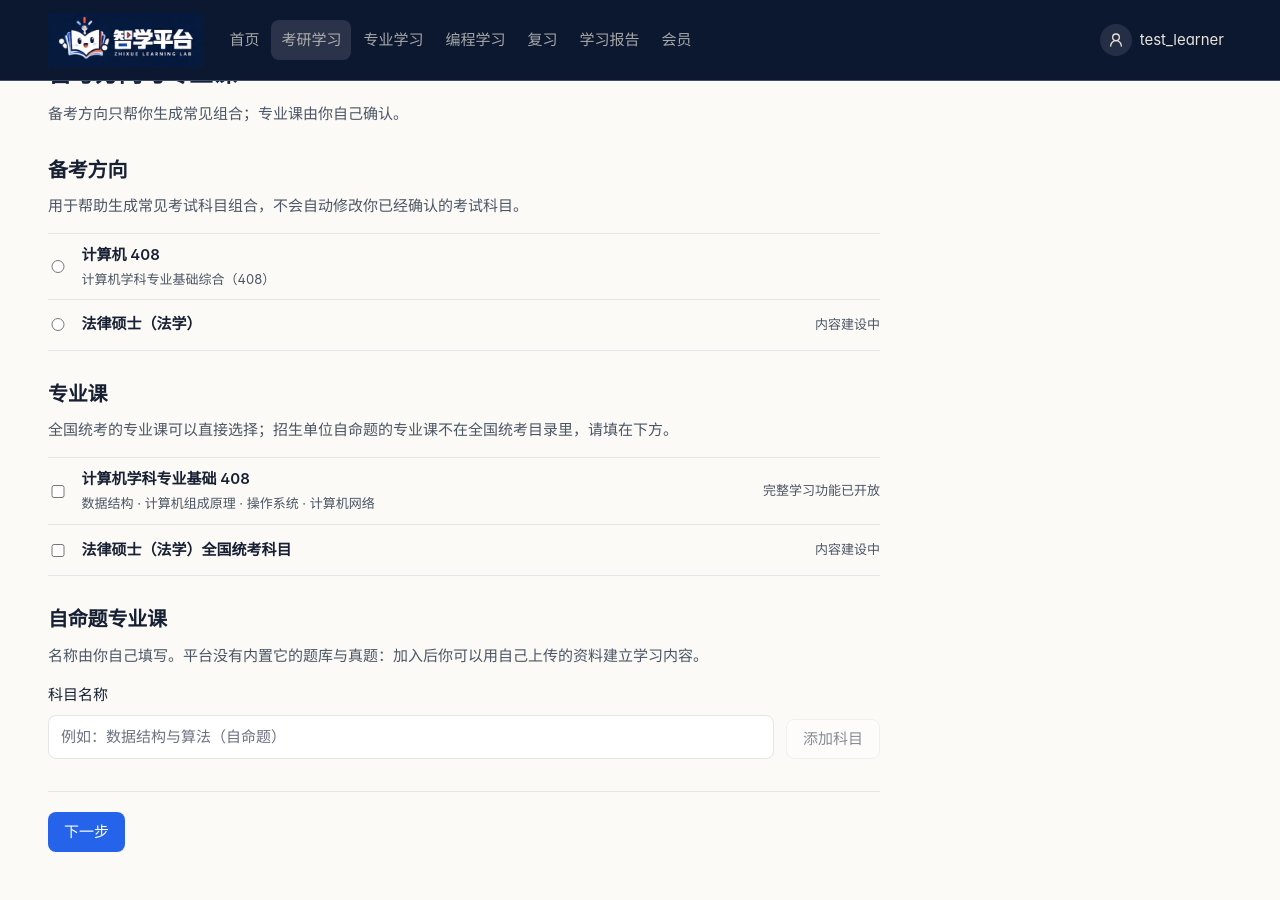
Test case: 设置考试方案 › confirms the public courses on their own step, one line each
(page scrolled)
Click the button "下一步" at (86,832), box [48,812,125,852]
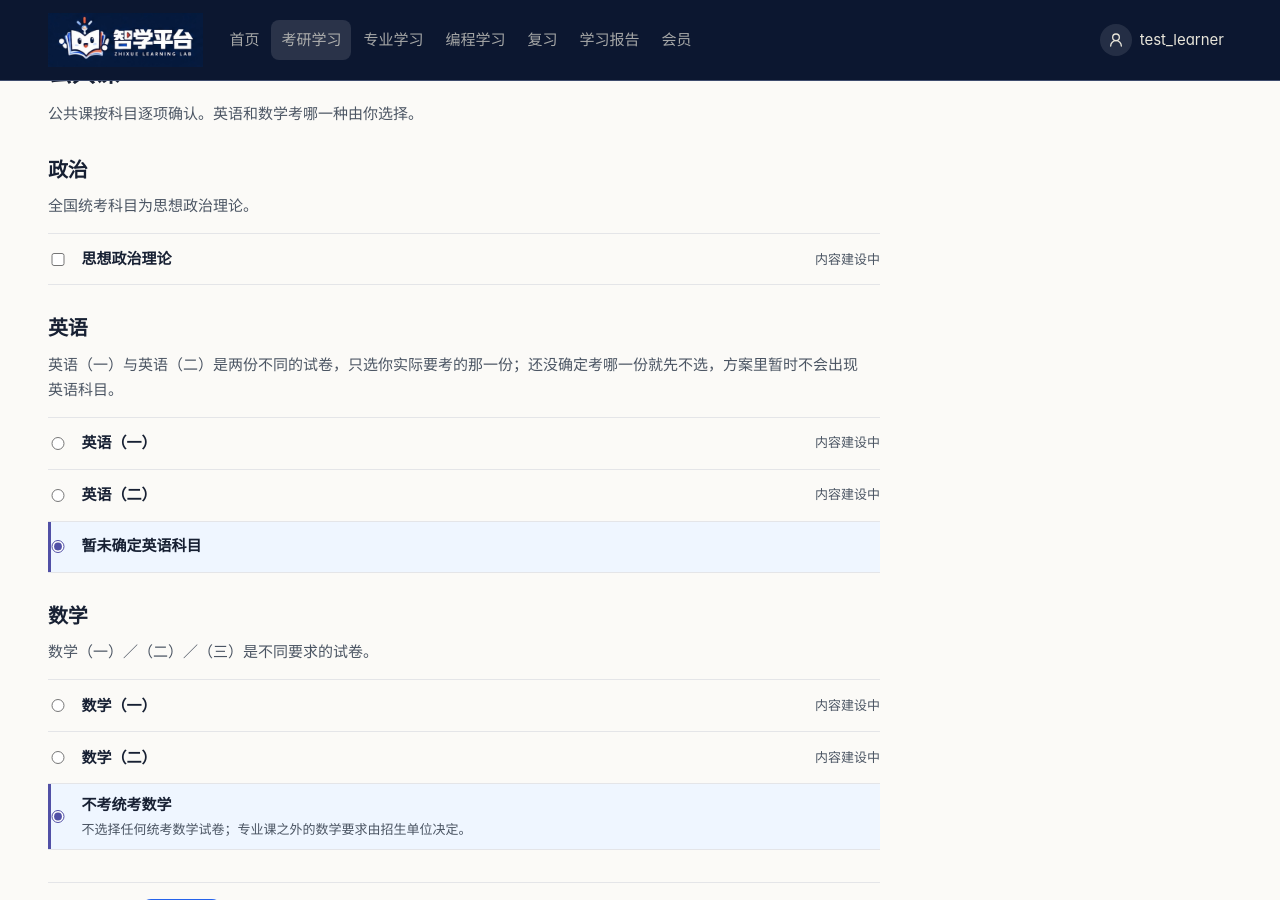
Result: the radio button labelled "英语（一） 内容建设中" is shown at [48,437,68,450]
Result: the radio button labelled "英语（二） 内容建设中" is shown at [48,489,68,502]
Result: the radio button labelled "数学（一） 内容建设中" is shown at [48,700,68,712]
